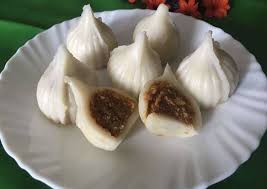modak: (176, 24, 250, 109), (39, 35, 97, 131), (57, 6, 124, 70), (103, 32, 169, 94), (132, 4, 186, 59)
